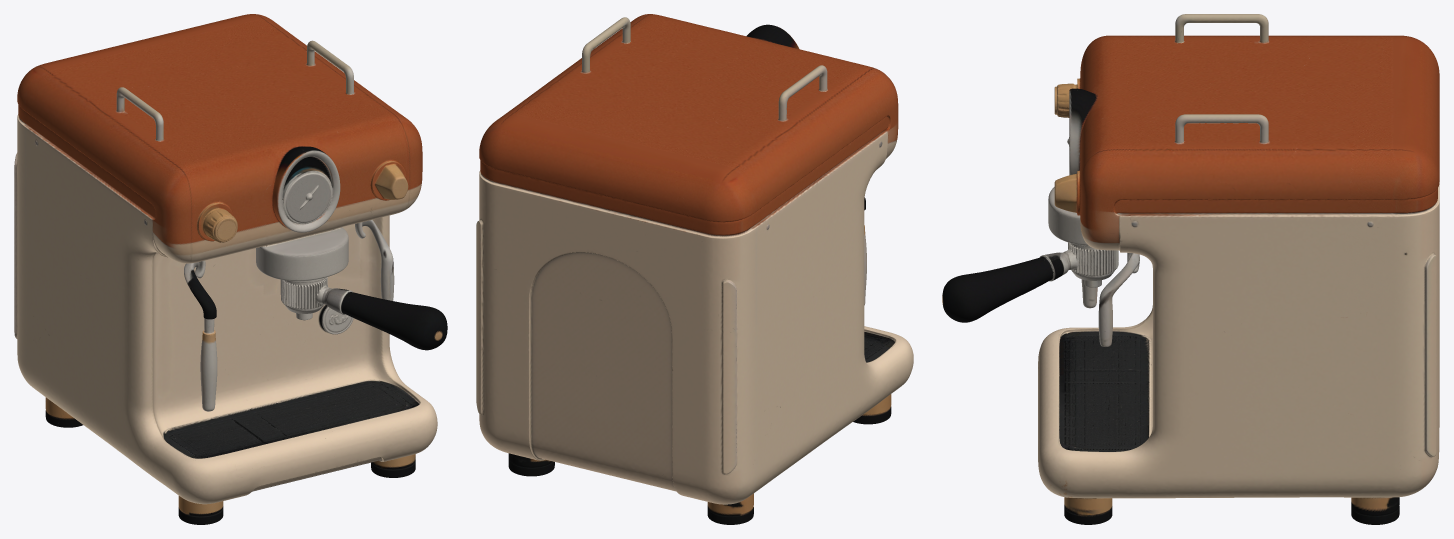
Rendered from meshy-cafe-source.glb.
3 views of the same model, side by side, from view 1: azimuth 30°, elevation 25°; view 2: azimuth 150°, elevation 25°; view 3: azimuth 270°, elevation 25° (orthographic). The views are drawn at different scales.
Size of the model in its own units: 1.25 by 1.69 by 1.9.
Materials: 1 (1 with a texture image).
